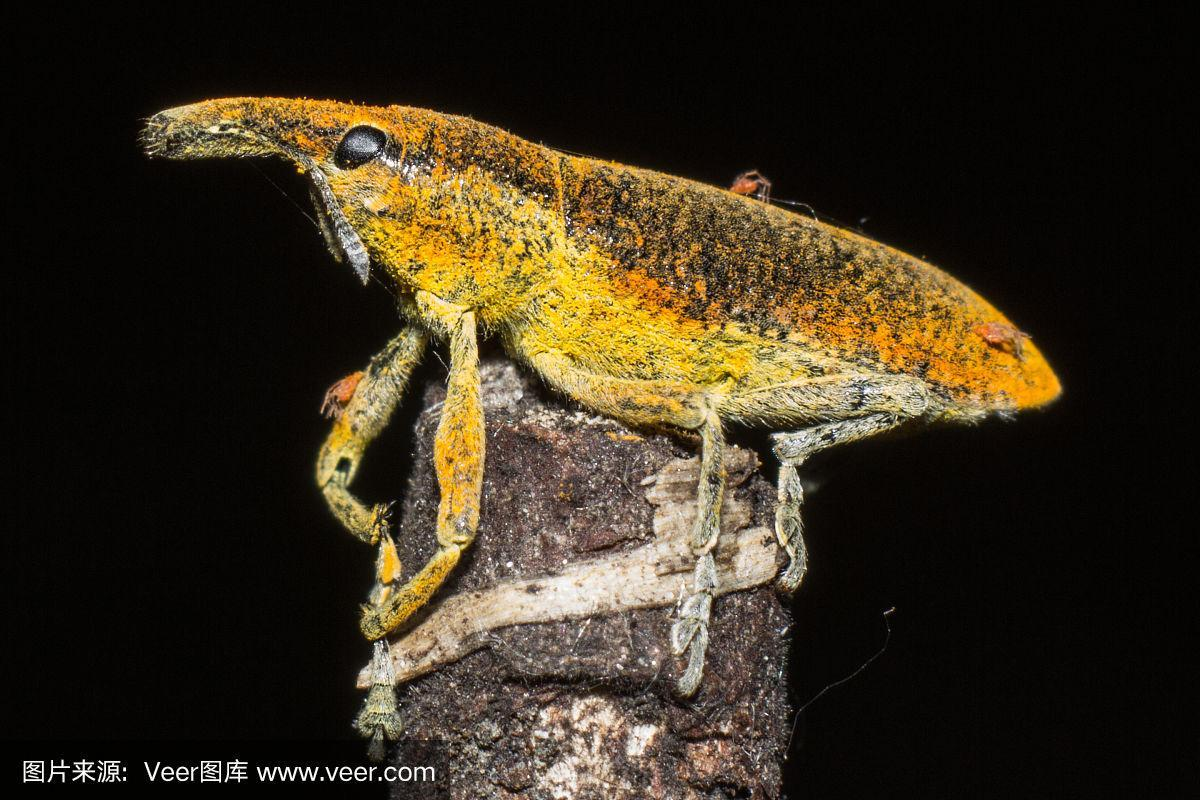Curculionidae: (136, 95, 1062, 752)
